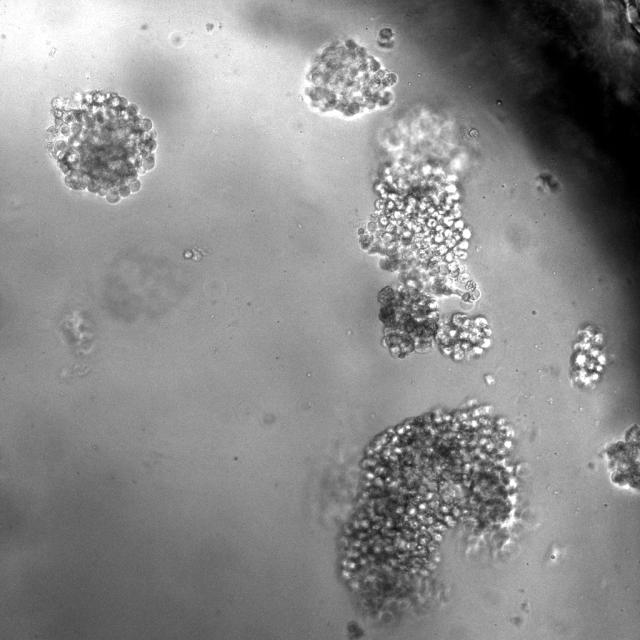organoid: (321, 402, 523, 619), (356, 101, 494, 364), (48, 90, 156, 203), (305, 39, 398, 118), (569, 326, 606, 388), (606, 425, 639, 491), (378, 26, 394, 48), (347, 621, 364, 639), (183, 249, 204, 261)
